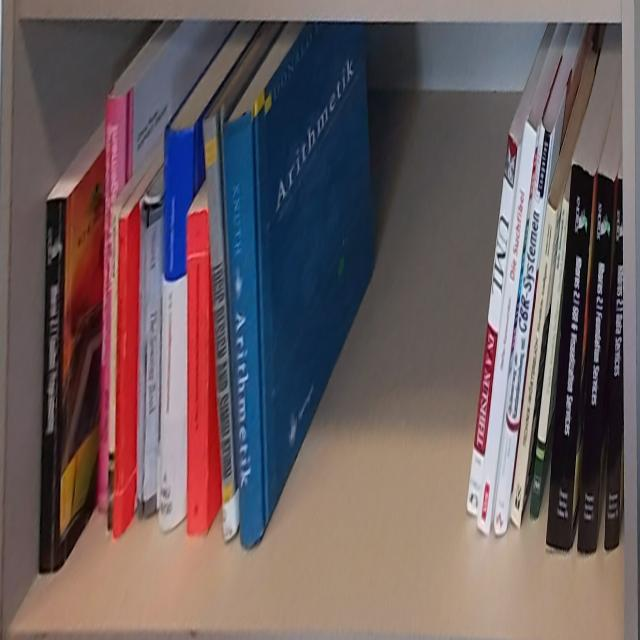Book Spine: (476, 116, 539, 535), (494, 122, 553, 537), (465, 133, 520, 516), (545, 158, 595, 552), (222, 110, 266, 547), (509, 200, 559, 530), (96, 92, 133, 513), (157, 126, 195, 531), (578, 172, 617, 554), (203, 114, 237, 542), (530, 197, 570, 520), (38, 196, 68, 574), (603, 177, 624, 552), (187, 212, 208, 534), (112, 217, 129, 543), (146, 209, 163, 518), (106, 202, 121, 532), (137, 204, 150, 521)
